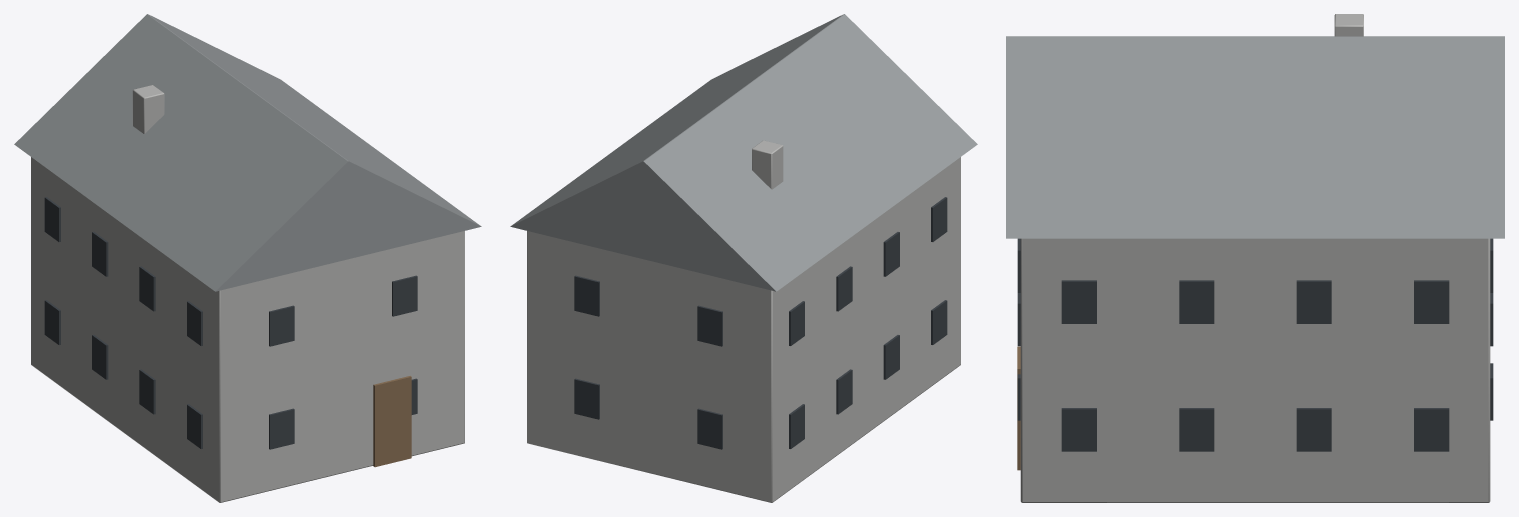
The model's file is Scenery_House_B.fbx.
The picture shows the model from 3 angles, left to right: view 1: azimuth 30°, elevation 25°; view 2: azimuth 150°, elevation 25°; view 3: azimuth 270°, elevation 25°; orthographic projection. The views are drawn at different scales.
Parts seen in each view (by area): view 1: Walls, Roof, Door, Chimney, WinEnd_-1_0_0, WinEnd_-1_1_0, WinEnd_-1_1_1, WinSide_-1_0_1, WinSide_-1_1_1, WinSide_-1_0_2, WinSide_-1_1_2, WinSide_-1_0_3 (+3 smaller); view 2: Walls, Roof, Chimney, WinEnd_1_0_0, WinEnd_1_1_0, WinEnd_1_0_1, WinEnd_1_1_1, WinSide_-1_0_2, WinSide_-1_1_2, WinSide_-1_0_1, WinSide_-1_1_1, WinSide_-1_0_0 (+3 smaller); view 3: Walls, Roof, WinSide_1_0_0, WinSide_1_0_1, WinSide_1_0_2, WinSide_1_0_3, WinSide_1_1_0, WinSide_1_1_1, WinSide_1_1_2, WinSide_1_1_3, Chimney.
Boxes of the visible parts, box(x1,y1,x2,y2) form: Walls: box(31, 157, 464, 502); Roof: box(14, 14, 481, 291); Door: box(373, 376, 411, 467); Chimney: box(132, 85, 164, 133); WinEnd_-1_0_0: box(269, 408, 294, 449); WinEnd_-1_1_0: box(269, 305, 294, 346); WinEnd_-1_1_1: box(392, 275, 417, 316); WinSide_-1_0_1: box(139, 369, 155, 414); WinSide_-1_1_1: box(139, 266, 155, 311); WinSide_-1_0_2: box(92, 335, 108, 379); WinSide_-1_1_2: box(92, 232, 108, 276); WinSide_-1_0_3: box(44, 300, 60, 344); Walls: box(527, 157, 960, 502); Roof: box(510, 14, 977, 291); Chimney: box(752, 140, 783, 189); WinEnd_1_0_0: box(697, 408, 722, 449); WinEnd_1_1_0: box(697, 305, 722, 346); WinEnd_1_0_1: box(574, 378, 599, 419); WinEnd_1_1_1: box(574, 275, 599, 316); WinSide_-1_0_2: box(836, 369, 852, 414); WinSide_-1_1_2: box(836, 266, 852, 311); WinSide_-1_0_1: box(883, 335, 899, 379); WinSide_-1_1_1: box(883, 232, 899, 276); WinSide_-1_0_0: box(931, 300, 947, 344); Walls: box(1020, 238, 1490, 502); Roof: box(1006, 36, 1504, 238); WinSide_1_0_0: box(1061, 408, 1096, 451); WinSide_1_0_1: box(1179, 408, 1214, 451); WinSide_1_0_2: box(1296, 408, 1331, 451); WinSide_1_0_3: box(1414, 408, 1449, 451); WinSide_1_1_0: box(1061, 280, 1096, 323); WinSide_1_1_1: box(1179, 280, 1214, 323); WinSide_1_1_2: box(1296, 280, 1331, 323); WinSide_1_1_3: box(1414, 280, 1449, 323); Chimney: box(1334, 14, 1363, 36).
Bounding box in the file's own units: 6.5 × 7.38 × 8.5.
